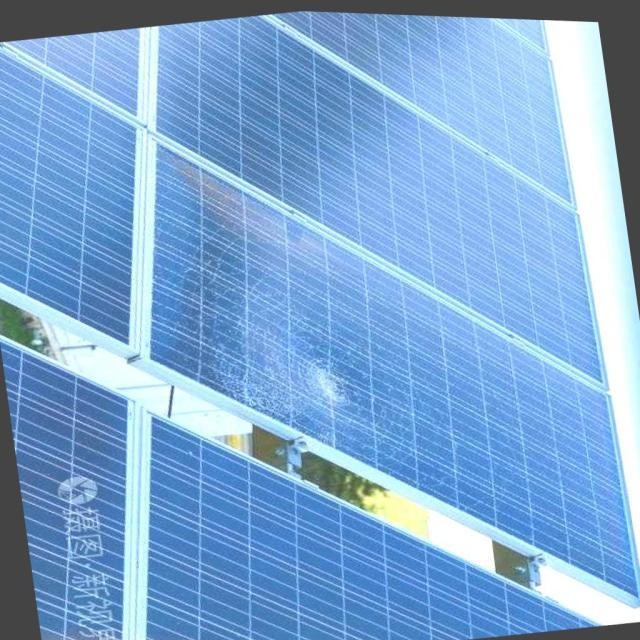cracked: (136, 154, 638, 595)
